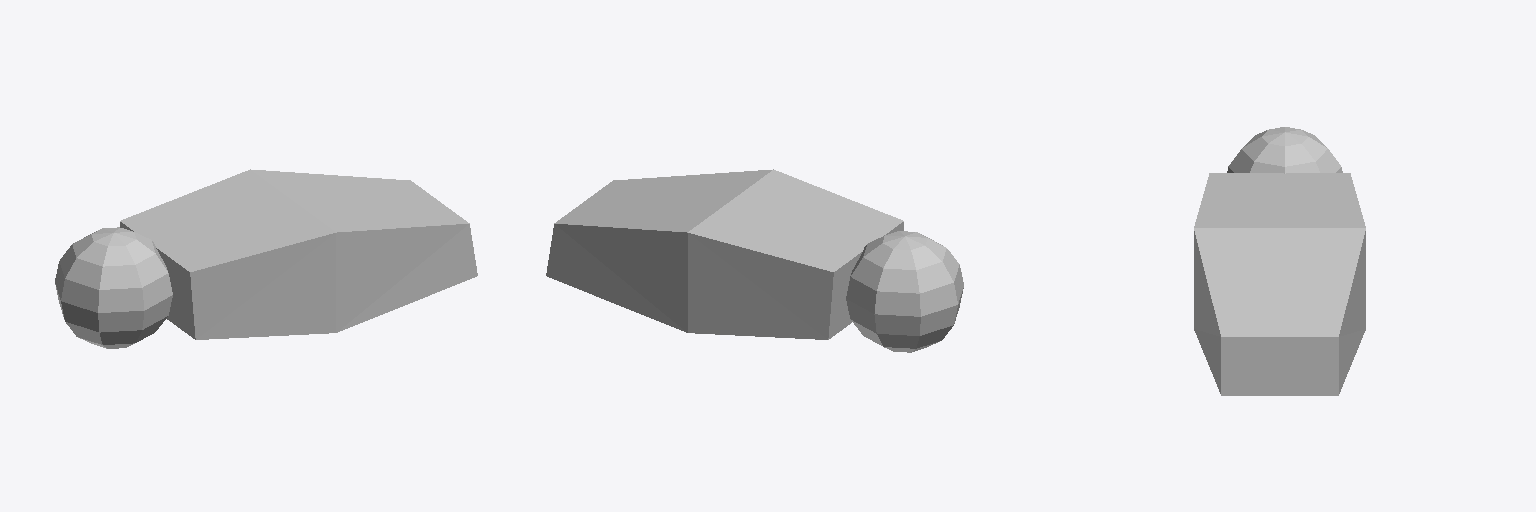
Rendered from left_hand.obj.
The picture shows the model from 3 angles: view 1: azimuth 30°, elevation 25°; view 2: azimuth 150°, elevation 25°; view 3: azimuth 270°, elevation 25°; orthographic projection.
Parts seen in each view (by area): view 1: Left_Hand.001_Cube.012; view 2: Left_Hand.001_Cube.012; view 3: Left_Hand.001_Cube.012.
Part boxes in pixels (x1,y1,x2,y2): Left_Hand.001_Cube.012: (55,169,477,348); Left_Hand.001_Cube.012: (546,169,963,352); Left_Hand.001_Cube.012: (1194,127,1365,395).
Size of the model in its own units: 0.4681 by 0.1289 by 0.1814.